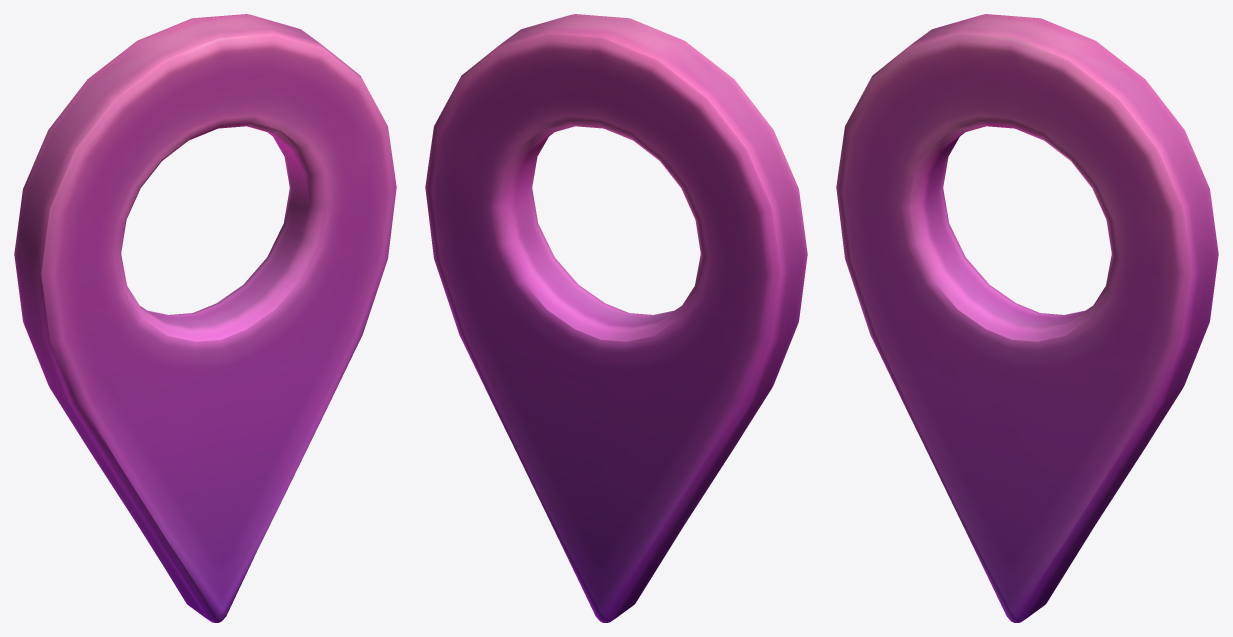
The model's file is location.fbx.
3 renders of one model, left to right at view 1: azimuth 30°, elevation 25°; view 2: azimuth 150°, elevation 25°; view 3: azimuth 330°, elevation 25°, orthographic.
Parts seen in each view (by area): view 1: Model; view 2: Model; view 3: Model.
Part boxes in pixels (x1,y1,x2,y2): Model: (14,14,396,622); Model: (425,14,807,622); Model: (836,14,1218,622).
Size of the model in its own units: 19.67 by 30.83 by 3.23.
